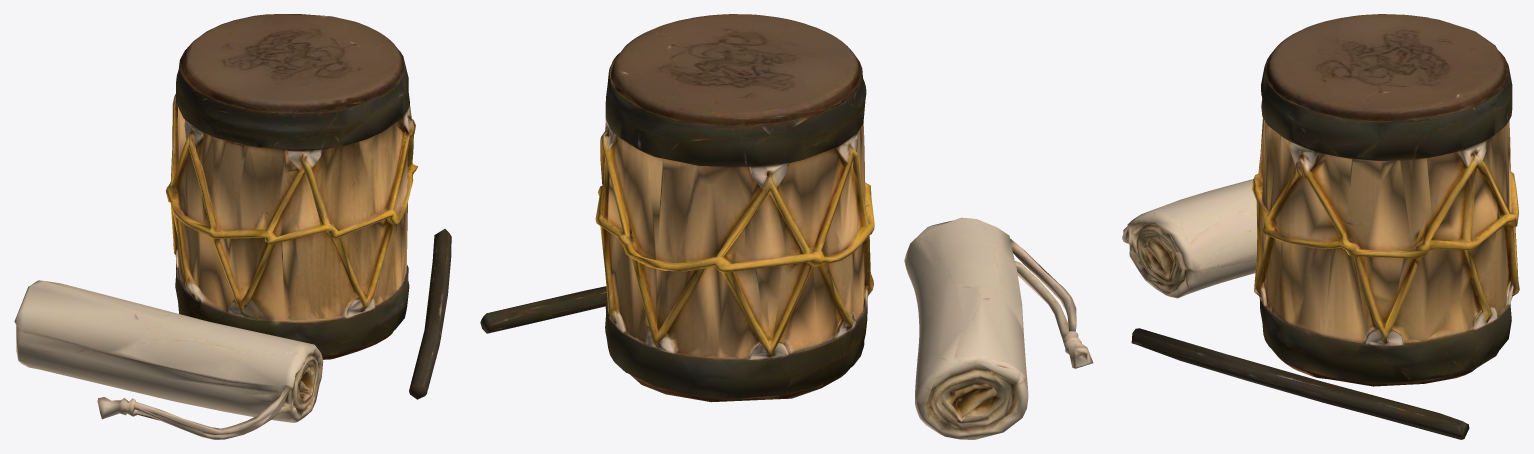
Rendered from modelo.glb.
3 renders of one model, left to right at view 1: azimuth 30°, elevation 25°; view 2: azimuth 150°, elevation 25°; view 3: azimuth 270°, elevation 25°, orthographic. The views are drawn at different scales.
Parts seen in each view (by area): view 1: node_0; view 2: node_0; view 3: node_0.
Part boxes in pixels (x1=…): node_0: x1=14, y1=14, x2=451, y2=439; node_0: x1=480, y1=14, x2=1093, y2=439; node_0: x1=1122, y1=14, x2=1519, y2=439.
Size of the model in its own units: 0.9799 by 0.5347 by 0.6795.
1 material, 1 textured.
